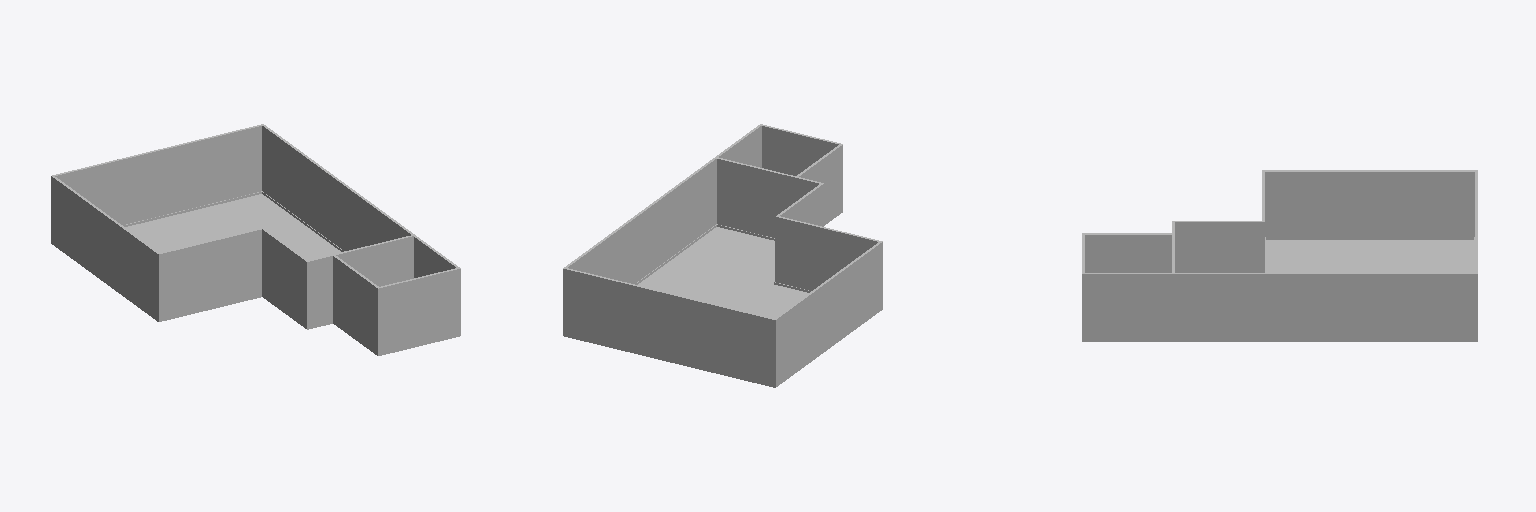
File: floorplan.obj
3 views of the same model, side by side, from view 1: azimuth 30°, elevation 25°; view 2: azimuth 150°, elevation 25°; view 3: azimuth 270°, elevation 25° (orthographic).
Visible parts, largest first — view 1: pPlane2; view 2: pPlane2; view 3: pPlane2.
Boxes of the visible parts, <box> form: pPlane2: <box>51,124,460,355</box>; pPlane2: <box>563,124,882,387</box>; pPlane2: <box>1082,170,1477,341</box>.
Size of the model in its own units: 8.2 by 2.5 by 13.2.